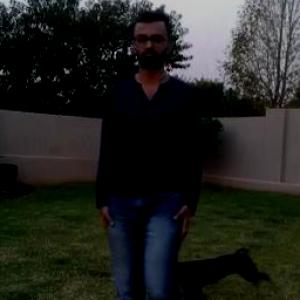follow: (96, 9, 203, 299)
